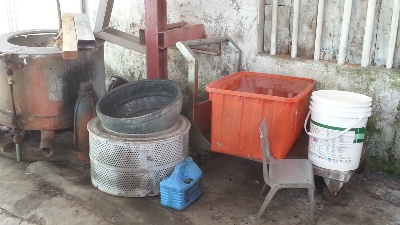bottle: (159, 155, 203, 210)
bowl: (97, 77, 185, 135)
box: (206, 70, 316, 164)
bucket: (309, 83, 374, 176)
